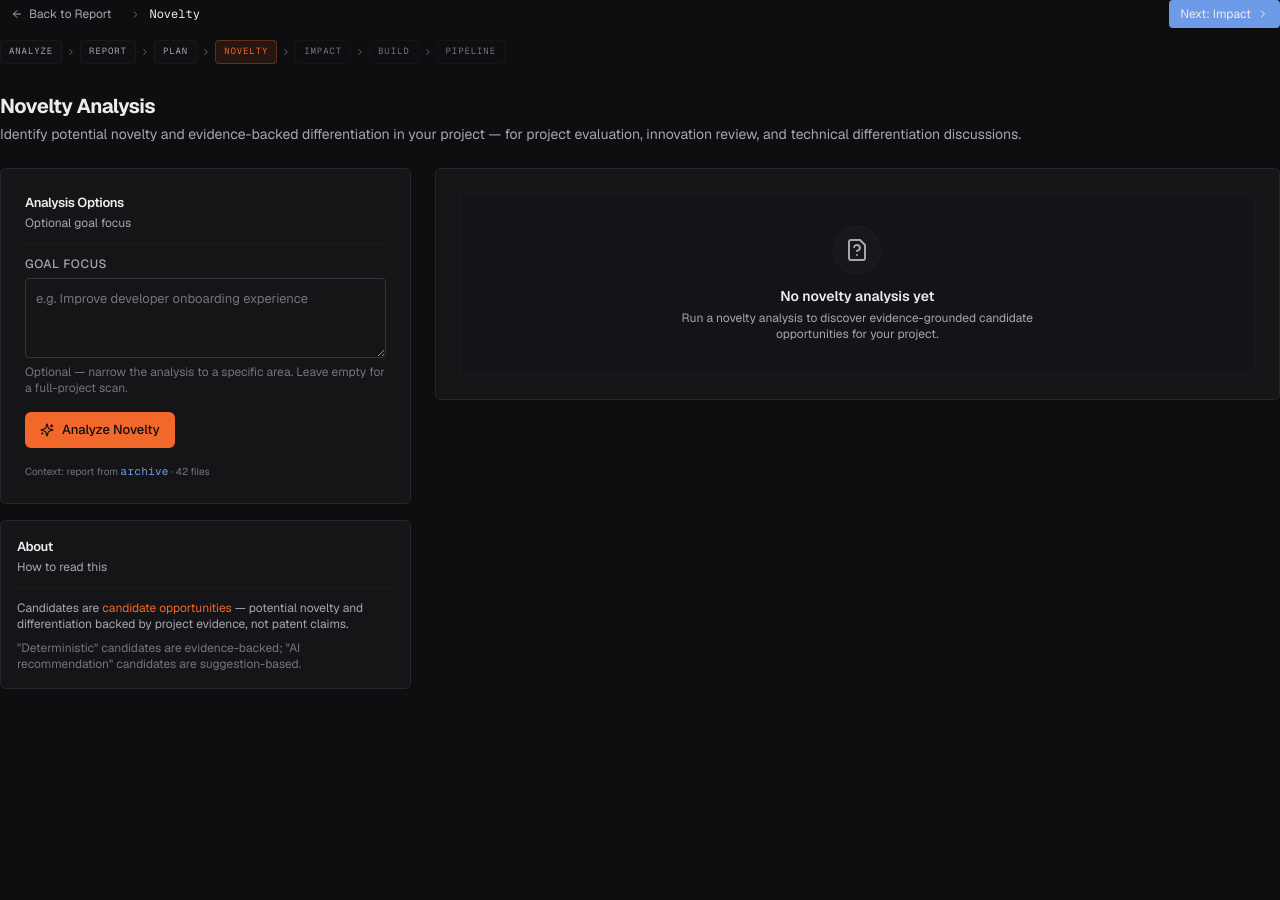
Novelty workflow › renders novelty candidates with scores and source badges
Click the button "Analyze Novelty" at (100, 430), box 25,412 -> 175,448
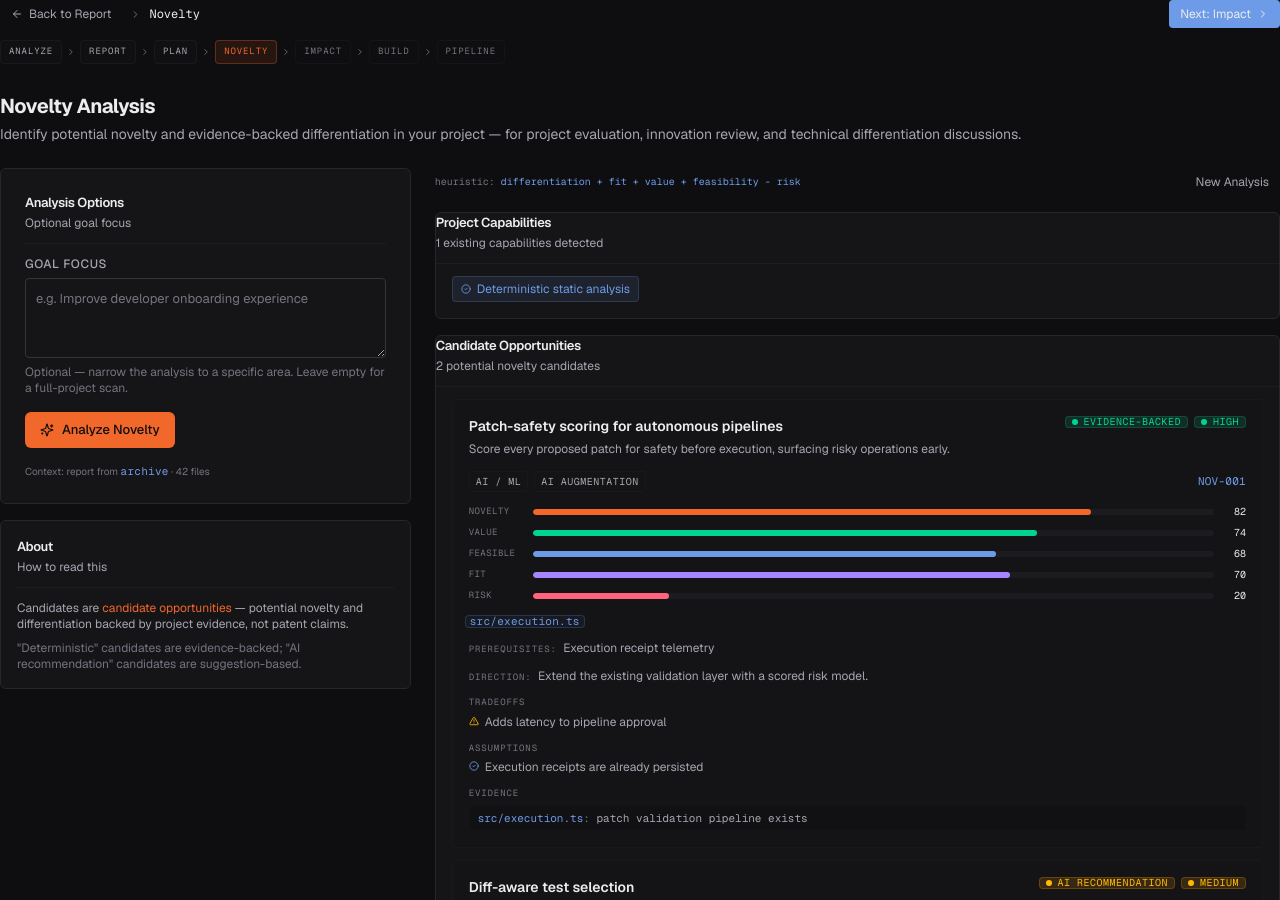
Expected: the heading "Patch-safety scoring for autonomous pipelines" is shown, 469,416 -> 783,434
Expected: the heading "Diff-aware test selection" is shown, 469,878 -> 634,896
Expected: the text "Evidence-backed" is shown, 1064,416 -> 1188,428
